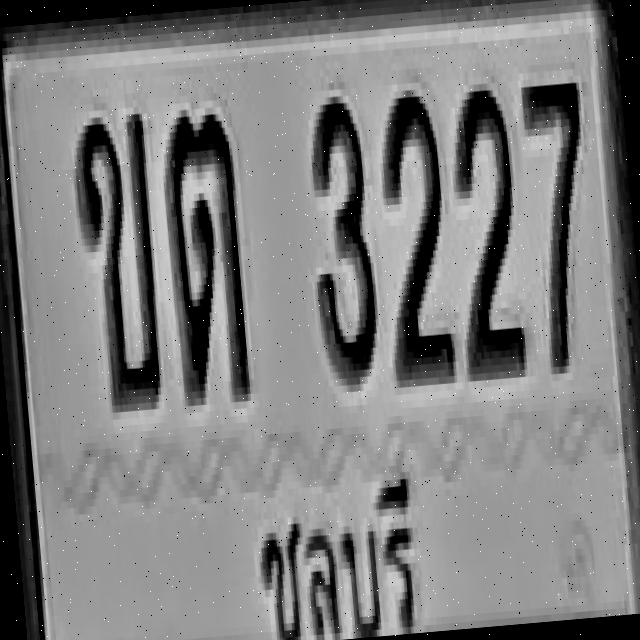11KhorKhai: (68, 102, 168, 410)
2: (371, 80, 456, 380), (443, 81, 528, 374)
3: (298, 84, 382, 383)
30TorTao: (160, 102, 252, 402)
7: (519, 72, 602, 370)
Chonburi: (245, 464, 427, 640)
